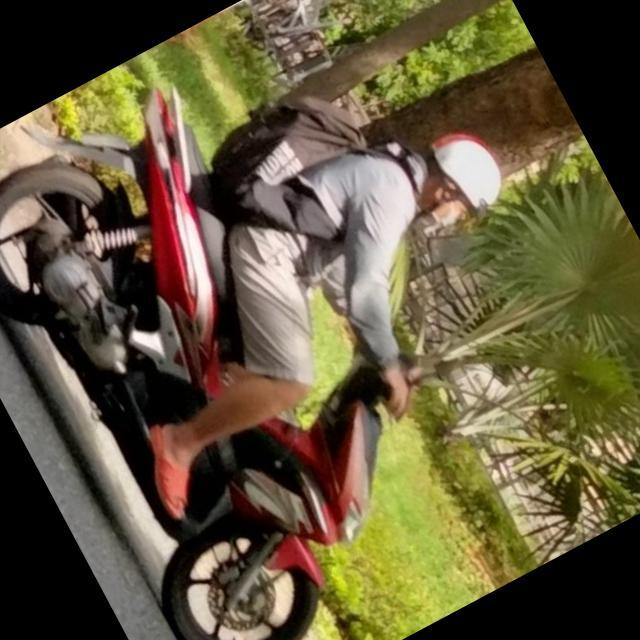WITH_HELMET: (388, 120, 522, 248)
